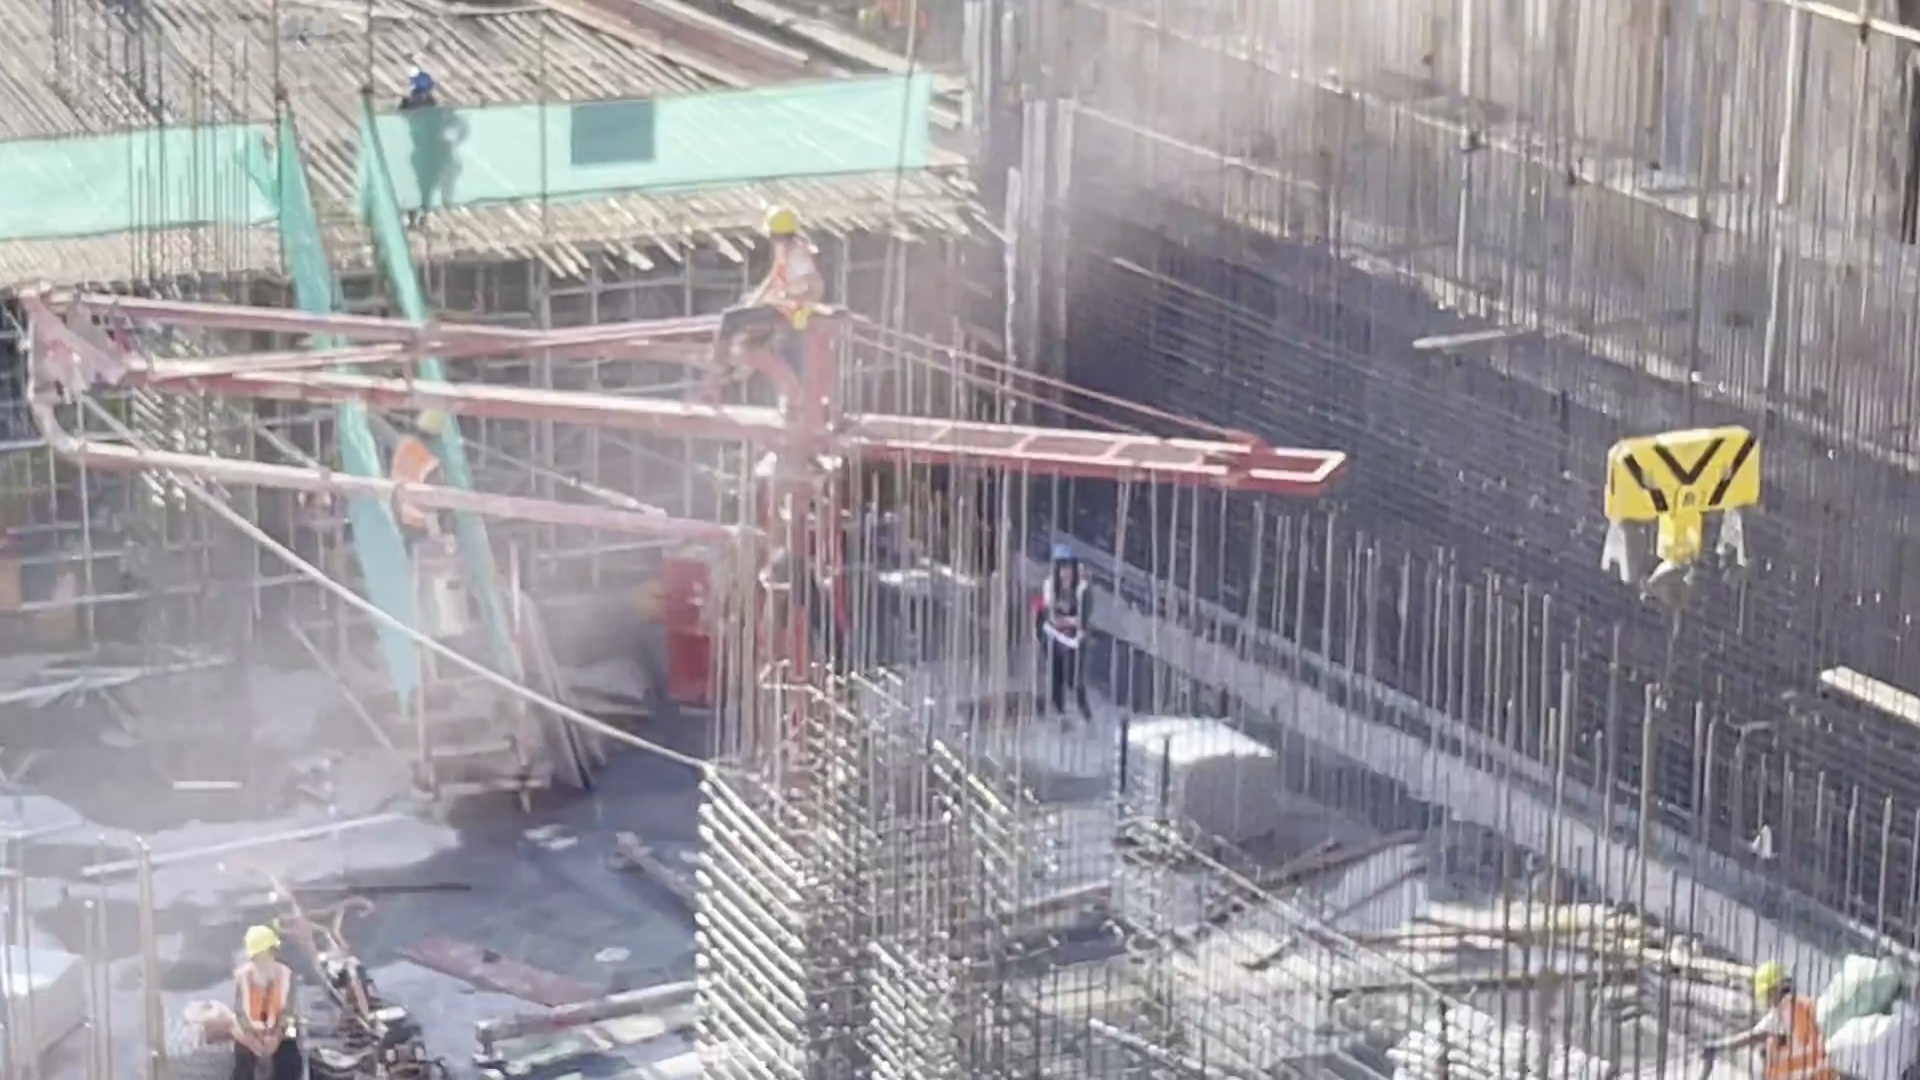helmet: (1738, 953, 1799, 1005), (421, 393, 462, 442), (243, 923, 292, 958), (408, 63, 441, 100), (1048, 537, 1082, 568), (774, 202, 797, 243)
hook: (1577, 398, 1777, 600)
person: (708, 204, 838, 395), (370, 386, 459, 572), (223, 920, 325, 1080), (1030, 543, 1115, 726), (395, 69, 488, 235), (1719, 958, 1841, 1080)
scaffold: (1107, 711, 1275, 861)
vest: (1752, 1002, 1832, 1078), (767, 245, 817, 327), (386, 434, 432, 512), (1037, 572, 1081, 646), (241, 974, 296, 1026)
